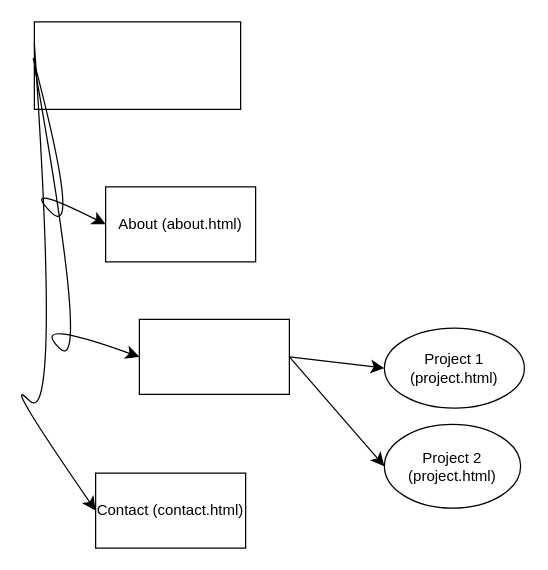
The diagram is 548 pixels wide and 570 high, and some of its shapes have lost their labels. Each missing label, with the centre of its shape:
"HOME (index.html)" belongs at (x=137, y=65).
"Projects (projects.html)" belongs at (x=213, y=356).
